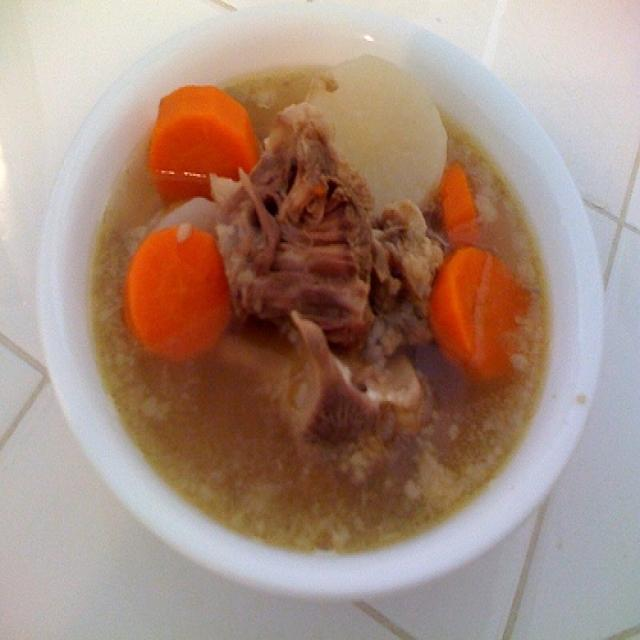汤锅炖物: (41, 17, 603, 597)
